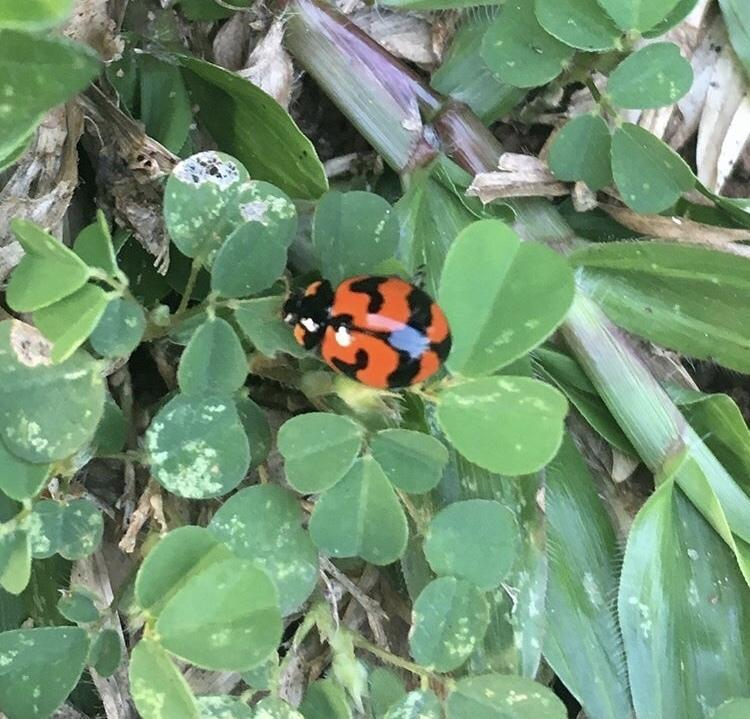ladybug: (281, 265, 455, 391)
